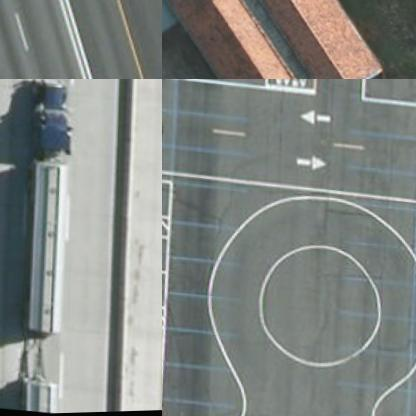truck: (0, 79, 93, 338)
